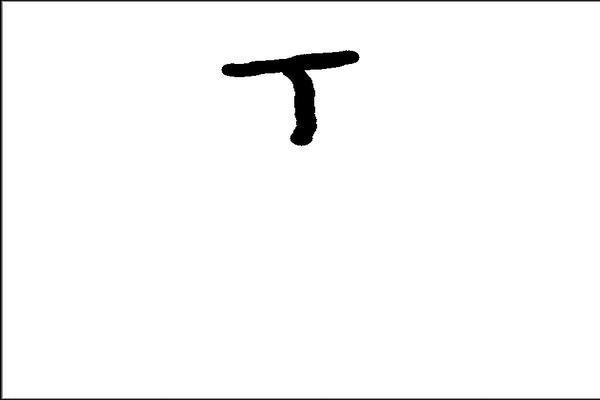T: (221, 47, 373, 148)
